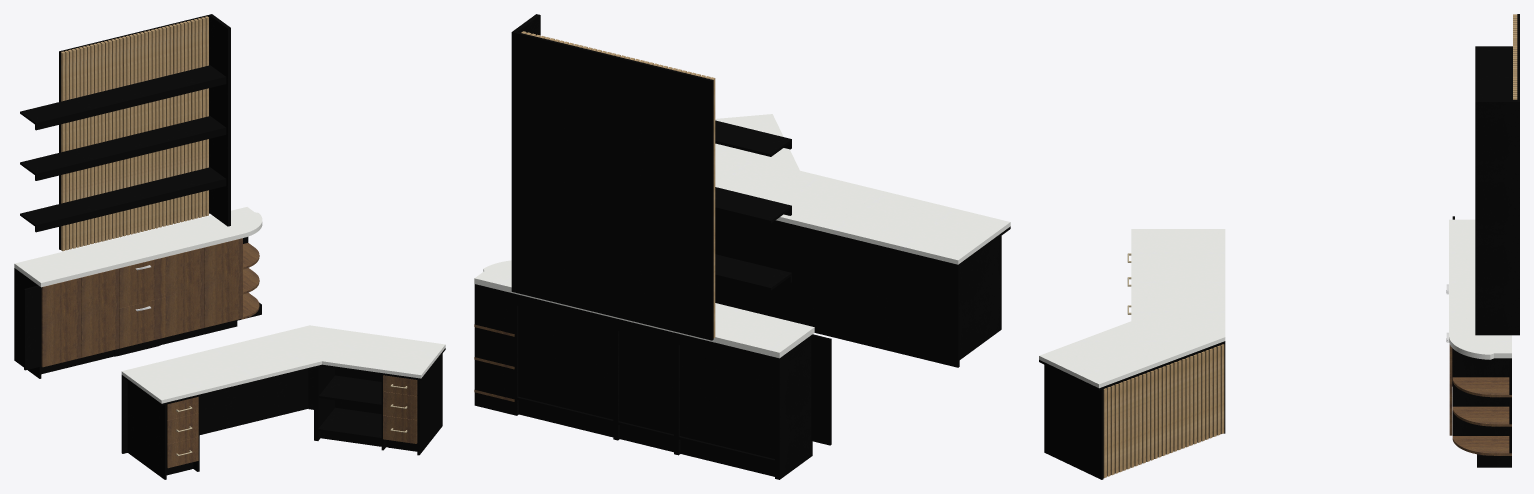
File: executive-office.glb
3 renders of one model, left to right at view 1: azimuth 30°, elevation 25°; view 2: azimuth 150°, elevation 25°; view 3: azimuth 270°, elevation 25°, orthographic. The views are drawn at different scales.
Visible parts, largest first — view 1: executive-office.001, mv_executive-office_006, mv_executive-office_007, mv_executive-office_010, mv_executive-office_011, mv_executive-office_008, mv_executive-office_009, mv_executive-office_004, mv_executive-office_005, mv_executive-office_002, mv_executive-office_001, mv_executive-office_003 (+1 smaller); view 2: executive-office.001; view 3: executive-office.001.
Part boxes in pixels (left/top/right/bottom): executive-office.001: left=14, top=14, right=445, bottom=479; mv_executive-office_006: left=41, top=277, right=80, bottom=367; mv_executive-office_007: left=81, top=268, right=119, bottom=357; mv_executive-office_010: left=166, top=247, right=204, bottom=337; mv_executive-office_011: left=204, top=238, right=242, bottom=327; mv_executive-office_008: left=119, top=257, right=165, bottom=308; mv_executive-office_009: left=119, top=297, right=165, bottom=348; mv_executive-office_004: left=383, top=391, right=417, bottom=419; mv_executive-office_005: left=383, top=415, right=417, bottom=443; mv_executive-office_002: left=167, top=437, right=198, bottom=468; mv_executive-office_001: left=167, top=413, right=198, bottom=444; mv_executive-office_003: left=383, top=375, right=417, bottom=395; executive-office.001: left=474, top=14, right=1010, bottom=479; executive-office.001: left=1039, top=14, right=1519, bottom=479.
Bounding box in the file's own units: 2.67 × 2.79 × 3.5.
7 materials, 6 textured.
